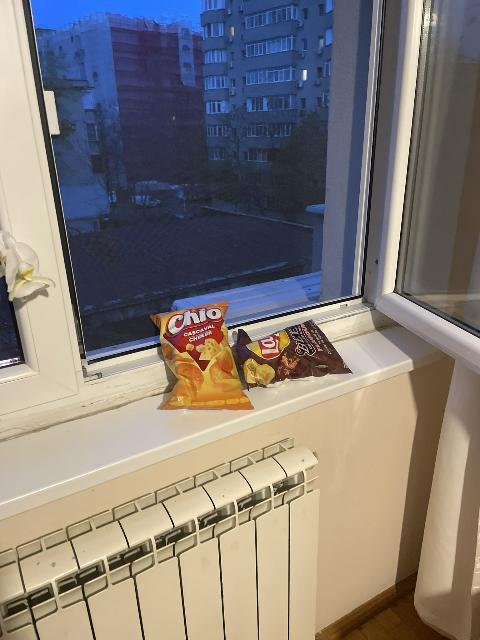Chio Cascaval 125g: (150, 301, 252, 408)
Lays Beef Grilled Ribs 125g: (241, 317, 351, 387)
